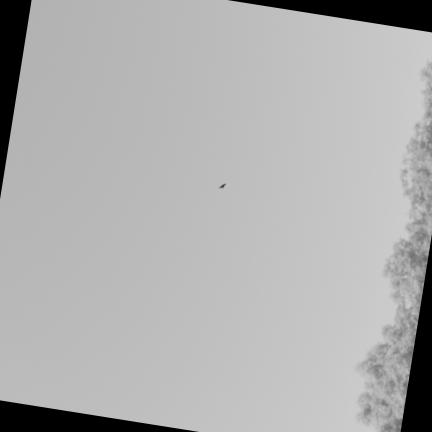Shahed: (219, 183, 226, 188)
